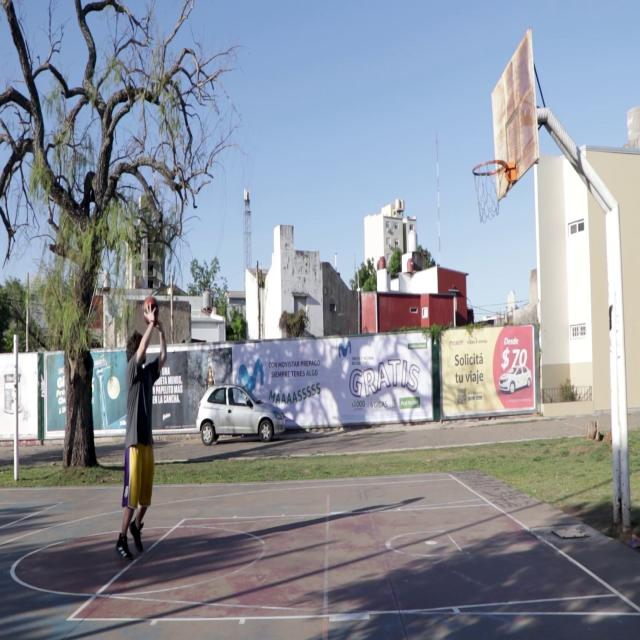ball: (142, 295, 158, 324)
